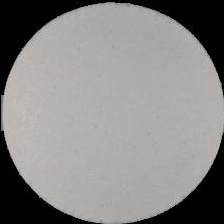21695-799: (0, 0, 224, 224)
